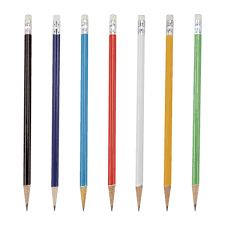Lapiz: (100, 10, 126, 216), (130, 9, 155, 214), (186, 11, 211, 215), (72, 10, 96, 215), (45, 10, 67, 216), (16, 11, 38, 215), (160, 11, 179, 215)
